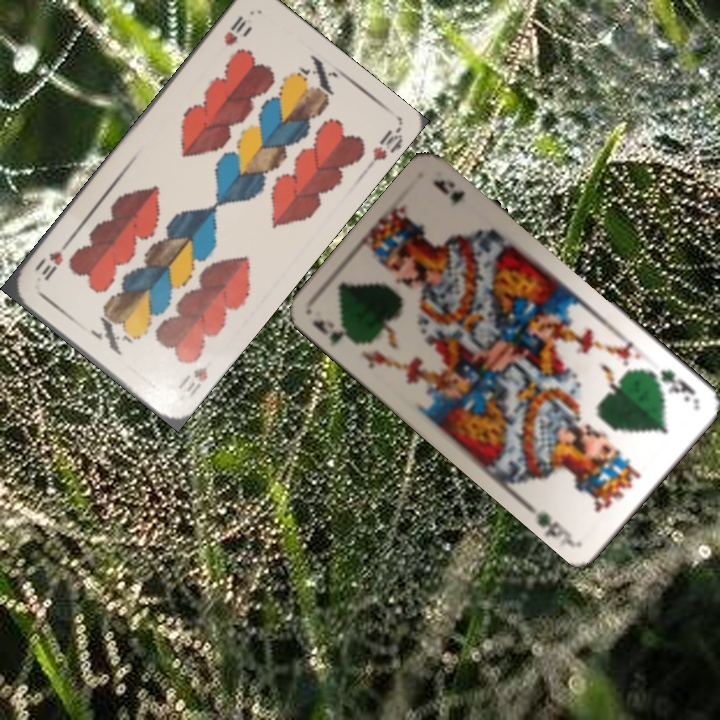GK: (645, 365, 699, 405), (308, 315, 363, 349)
H10: (219, 11, 254, 48), (178, 362, 211, 400)
